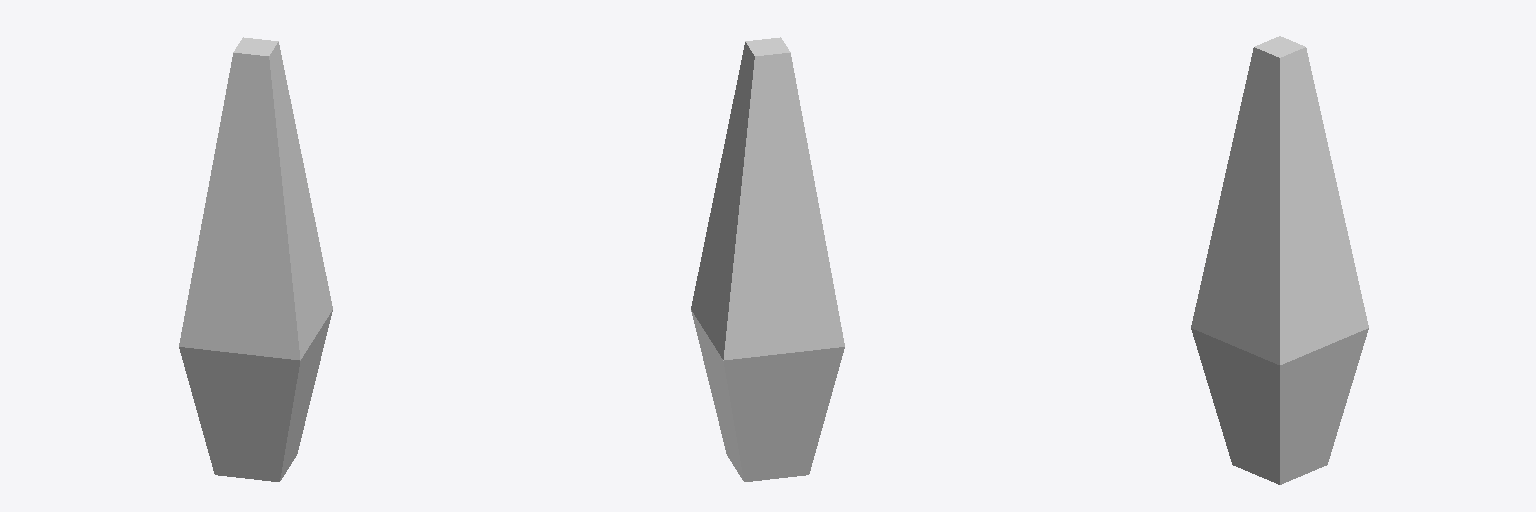
The model's file is snow01.obj.
3 views of the same model, side by side, from view 1: azimuth 30°, elevation 25°; view 2: azimuth 150°, elevation 25°; view 3: azimuth 270°, elevation 25° (orthographic).
Parts seen in each view (by area): view 1: pPyramid1; view 2: pPyramid1; view 3: pPyramid1.
Boxes of the visible parts, x1=… form: pPyramid1: x1=179, y1=37, x2=332, y2=481; pPyramid1: x1=691, y1=37, x2=844, y2=481; pPyramid1: x1=1191, y1=36, x2=1368, y2=484.
Size of the model in its own units: 2304 by 5964 by 2304.